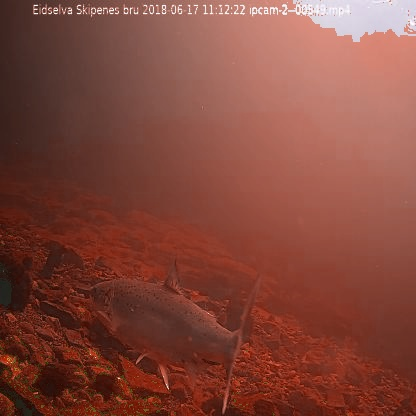salmon: (87, 252, 263, 414)
